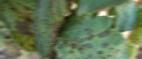Tomato leaf bacterial spot: (39, 19, 139, 59), (31, 0, 83, 59), (0, 0, 46, 51)
